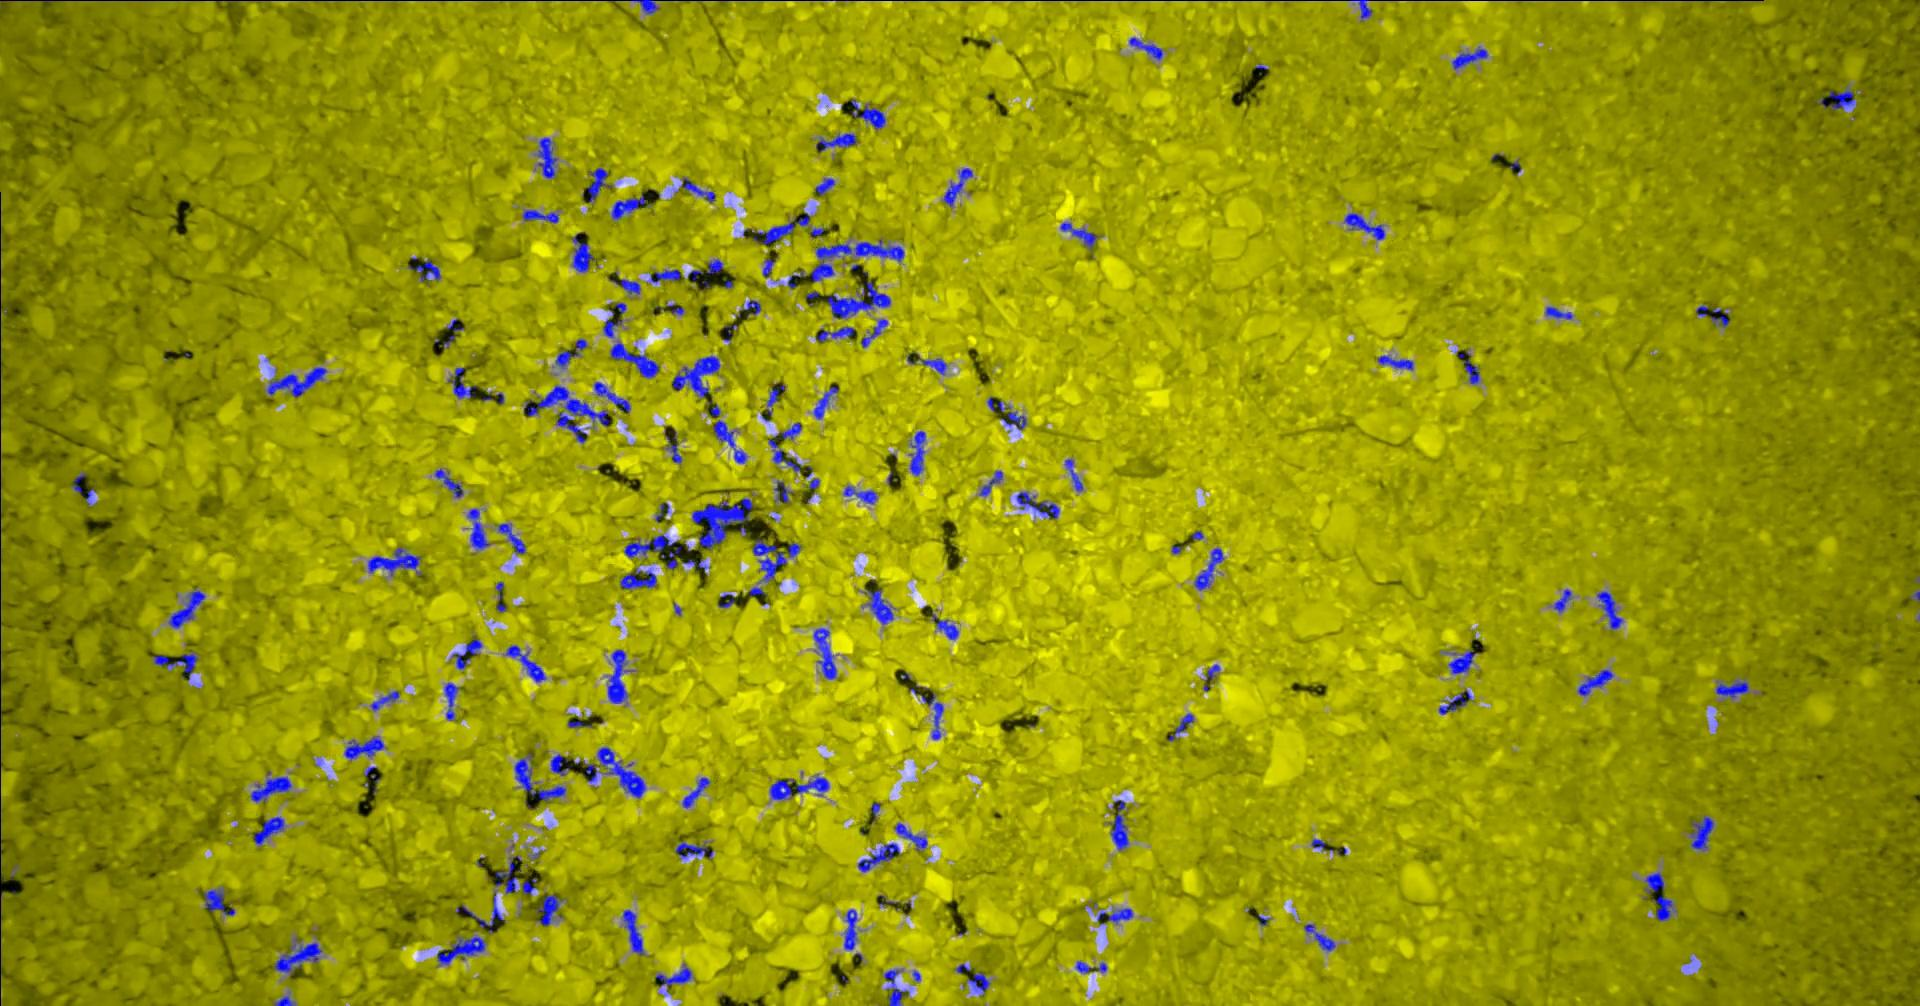ant: (514, 753, 565, 801), (597, 747, 645, 796), (825, 281, 890, 318), (670, 354, 719, 398), (455, 890, 504, 932), (623, 533, 681, 569), (750, 212, 809, 244), (267, 367, 326, 398), (610, 342, 658, 377), (768, 422, 801, 471), (273, 942, 321, 976), (367, 547, 422, 575), (712, 419, 745, 464), (168, 589, 204, 627), (505, 645, 545, 681), (752, 539, 785, 580), (436, 936, 484, 964), (770, 776, 828, 799), (987, 396, 1026, 429), (250, 771, 291, 801), (1194, 547, 1223, 589), (857, 842, 899, 871), (813, 627, 836, 680), (152, 653, 197, 680), (1016, 492, 1059, 518), (607, 649, 629, 702), (919, 692, 943, 739), (593, 381, 630, 412), (943, 166, 971, 206), (1343, 212, 1384, 239), (850, 99, 885, 128), (1059, 222, 1097, 249), (494, 855, 521, 893), (451, 638, 481, 669), (622, 909, 644, 954), (611, 194, 650, 218), (344, 735, 383, 760), (1596, 591, 1622, 627), (466, 508, 489, 549), (866, 588, 893, 622), (883, 969, 908, 1005), (447, 367, 476, 398), (253, 815, 283, 845), (761, 384, 785, 420), (1110, 799, 1128, 848), (894, 823, 927, 850), (681, 177, 715, 202), (1577, 669, 1611, 695), (587, 166, 611, 202), (434, 467, 463, 497), (555, 338, 585, 366), (681, 777, 709, 808), (1303, 923, 1335, 950), (1437, 688, 1470, 714), (571, 232, 593, 271), (618, 567, 657, 588), (497, 523, 524, 553), (1451, 46, 1487, 69), (536, 894, 563, 925), (813, 386, 838, 418), (1817, 88, 1854, 109), (1690, 815, 1713, 850), (860, 319, 888, 347), (537, 137, 556, 178), (203, 889, 234, 915), (655, 964, 691, 986), (71, 473, 95, 504), (1128, 37, 1162, 58), (908, 431, 924, 475), (815, 133, 856, 151), (687, 259, 723, 279), (1458, 351, 1479, 384), (931, 612, 957, 639), (439, 318, 463, 347), (408, 259, 439, 281), (1448, 649, 1476, 673), (676, 840, 712, 857), (1064, 459, 1082, 492), (843, 485, 876, 503), (1716, 680, 1749, 697), (979, 470, 1002, 495), (370, 690, 397, 710), (1377, 354, 1412, 370), (817, 326, 855, 340), (444, 682, 458, 720), (665, 429, 681, 462), (843, 909, 856, 949), (968, 972, 989, 995), (1653, 895, 1674, 920), (1097, 908, 1131, 922), (735, 298, 759, 318), (522, 210, 557, 222), (610, 278, 639, 293), (1203, 664, 1219, 691), (773, 480, 792, 502), (550, 753, 569, 775), (1349, 0, 1371, 18), (919, 358, 946, 373), (682, 558, 709, 573), (1553, 589, 1571, 612), (650, 269, 681, 282), (1644, 873, 1663, 893), (364, 766, 378, 793), (1710, 307, 1730, 326), (602, 318, 621, 337), (1175, 713, 1192, 733), (630, 0, 658, 13), (815, 178, 834, 196), (1545, 306, 1571, 319), (495, 580, 505, 612), (805, 465, 819, 488), (521, 876, 536, 894), (655, 502, 669, 521), (717, 593, 735, 607), (585, 763, 599, 781), (273, 995, 295, 1005), (762, 259, 775, 276), (787, 542, 800, 556), (1076, 962, 1092, 972), (568, 720, 590, 727)
